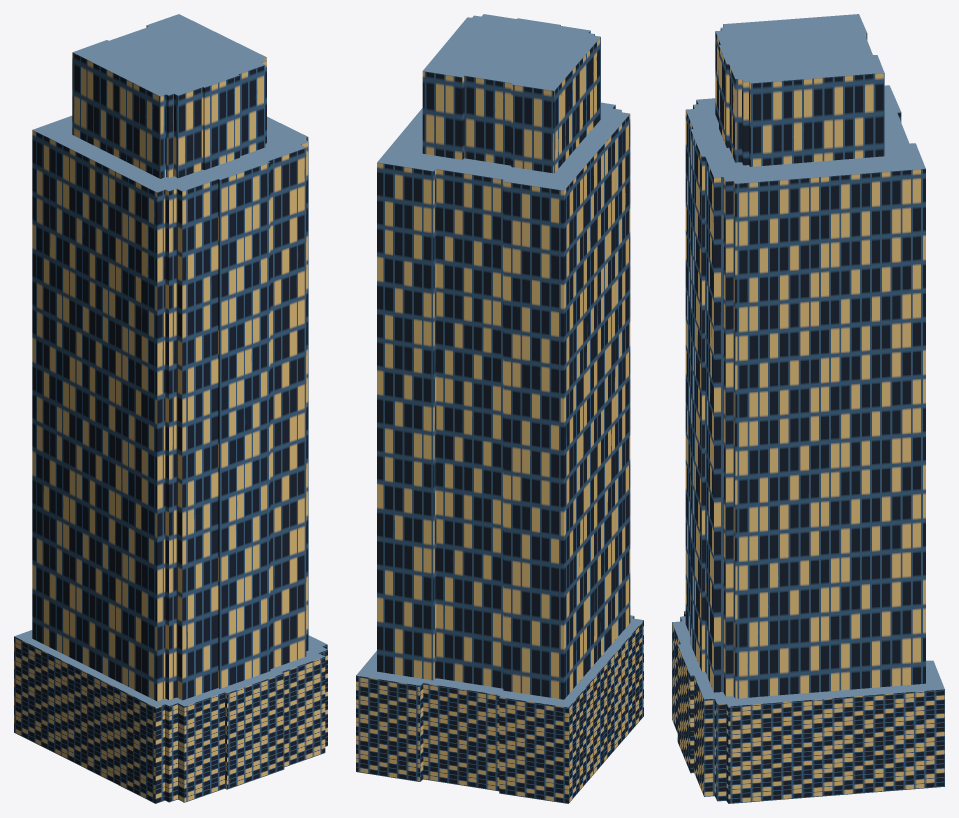
The model's file is barclays.glb.
The picture shows the model from 3 angles, left to right: view 1: azimuth 30°, elevation 25°; view 2: azimuth 150°, elevation 25°; view 3: azimuth 270°, elevation 25°; orthographic projection.
Visible parts, largest first — view 1: barclays; view 2: barclays; view 3: barclays.
Boxes of the visible parts, left/top/right/bottom form: barclays: left=14, top=14, right=327, bottom=803; barclays: left=356, top=14, right=643, bottom=803; barclays: left=672, top=14, right=944, bottom=803.
Bounding box in the file's own units: 0.726 × 2.1 × 0.7473.
Materials: 2 (1 with a texture image).
